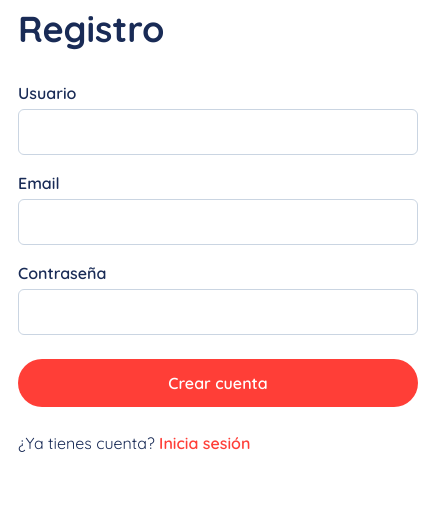
Scenario: RegistroPage › shows an error when signing up with an existing username
Type "otaku123" into the field labelled "Usuario".
click(218, 132); type("otaku123")  # box [18,109,418,155]
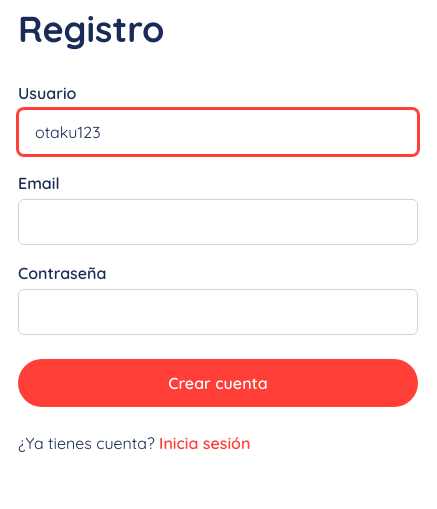
Type "x@mangeki.app" into the field labelled "Email".
click(218, 222); type("x@mangeki.app")  # box [18,199,418,245]
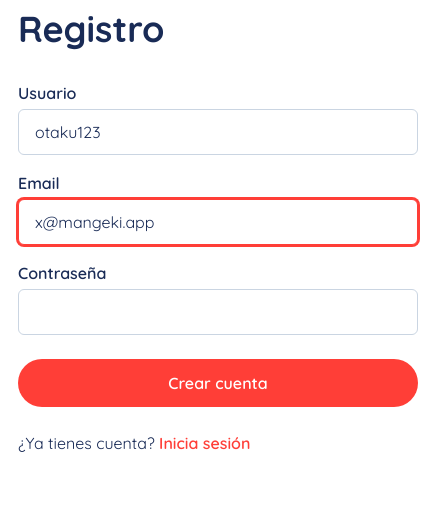
Type "clave1234" into the password field labelled "Contraseña".
click(218, 312); type("clave1234")  # box [18,289,418,335]
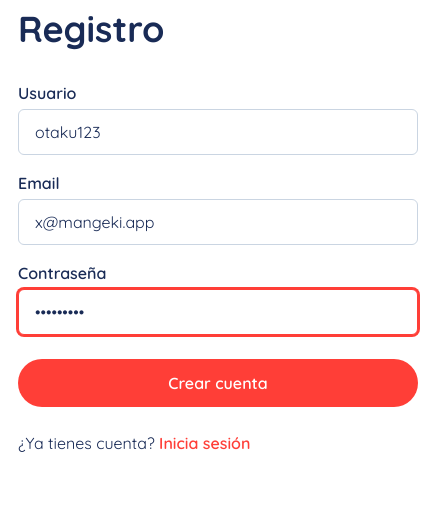
Click the button "Crear cuenta".
click(218, 383)  # box [18,359,418,407]
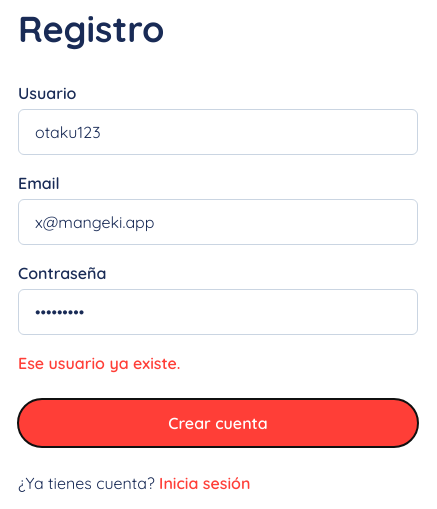
Now the text "Ese usuario ya existe." is shown, box [18,353,180,373]
